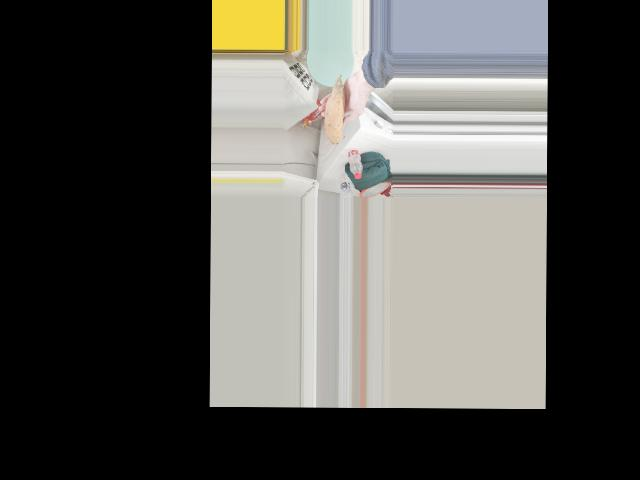sweet_potato: (324, 77, 346, 144)
